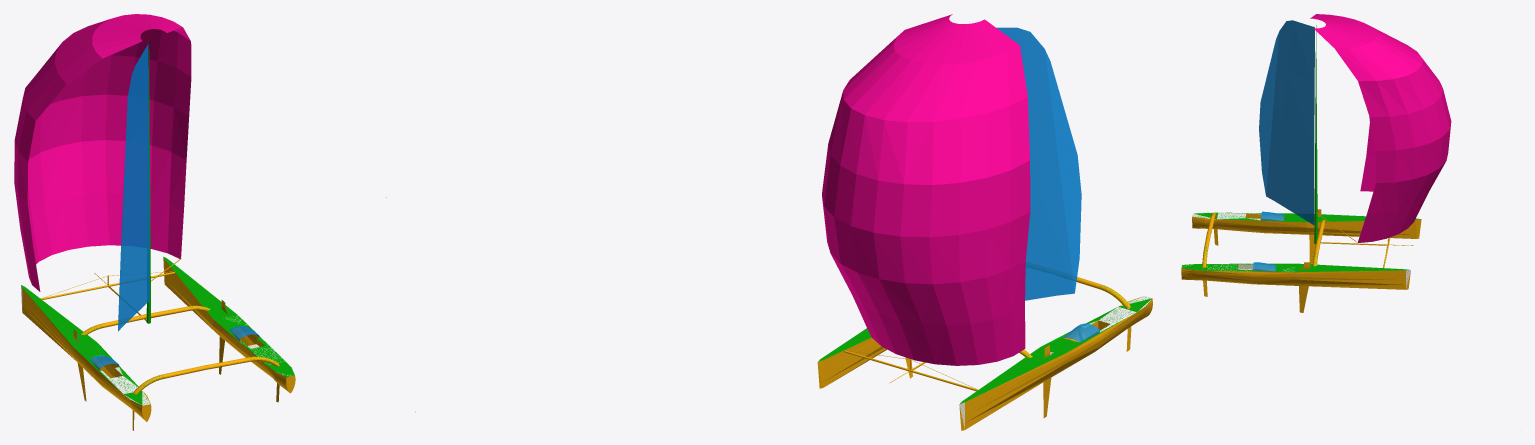
File: spi_tribord_catamaran.dae
The picture shows the model from 3 angles, left to right: view 1: azimuth 30°, elevation 25°; view 2: azimuth 150°, elevation 25°; view 3: azimuth 270°, elevation 25°; orthographic projection. The views are drawn at different scales.
Visible parts, largest first — view 1: SketchUp (×9); view 2: SketchUp (×6); view 3: SketchUp (×8).
Part boxes in pixels (box(x1,y1,x2,y2)): SketchUp (×9): box(14, 14, 295, 421); SketchUp (×6): box(817, 14, 1152, 430); SketchUp (×8): box(1181, 14, 1451, 289).
Size of the model in its own units: 188600 by 156303 by 137041.
Materials: 15 (6 with a texture image).
